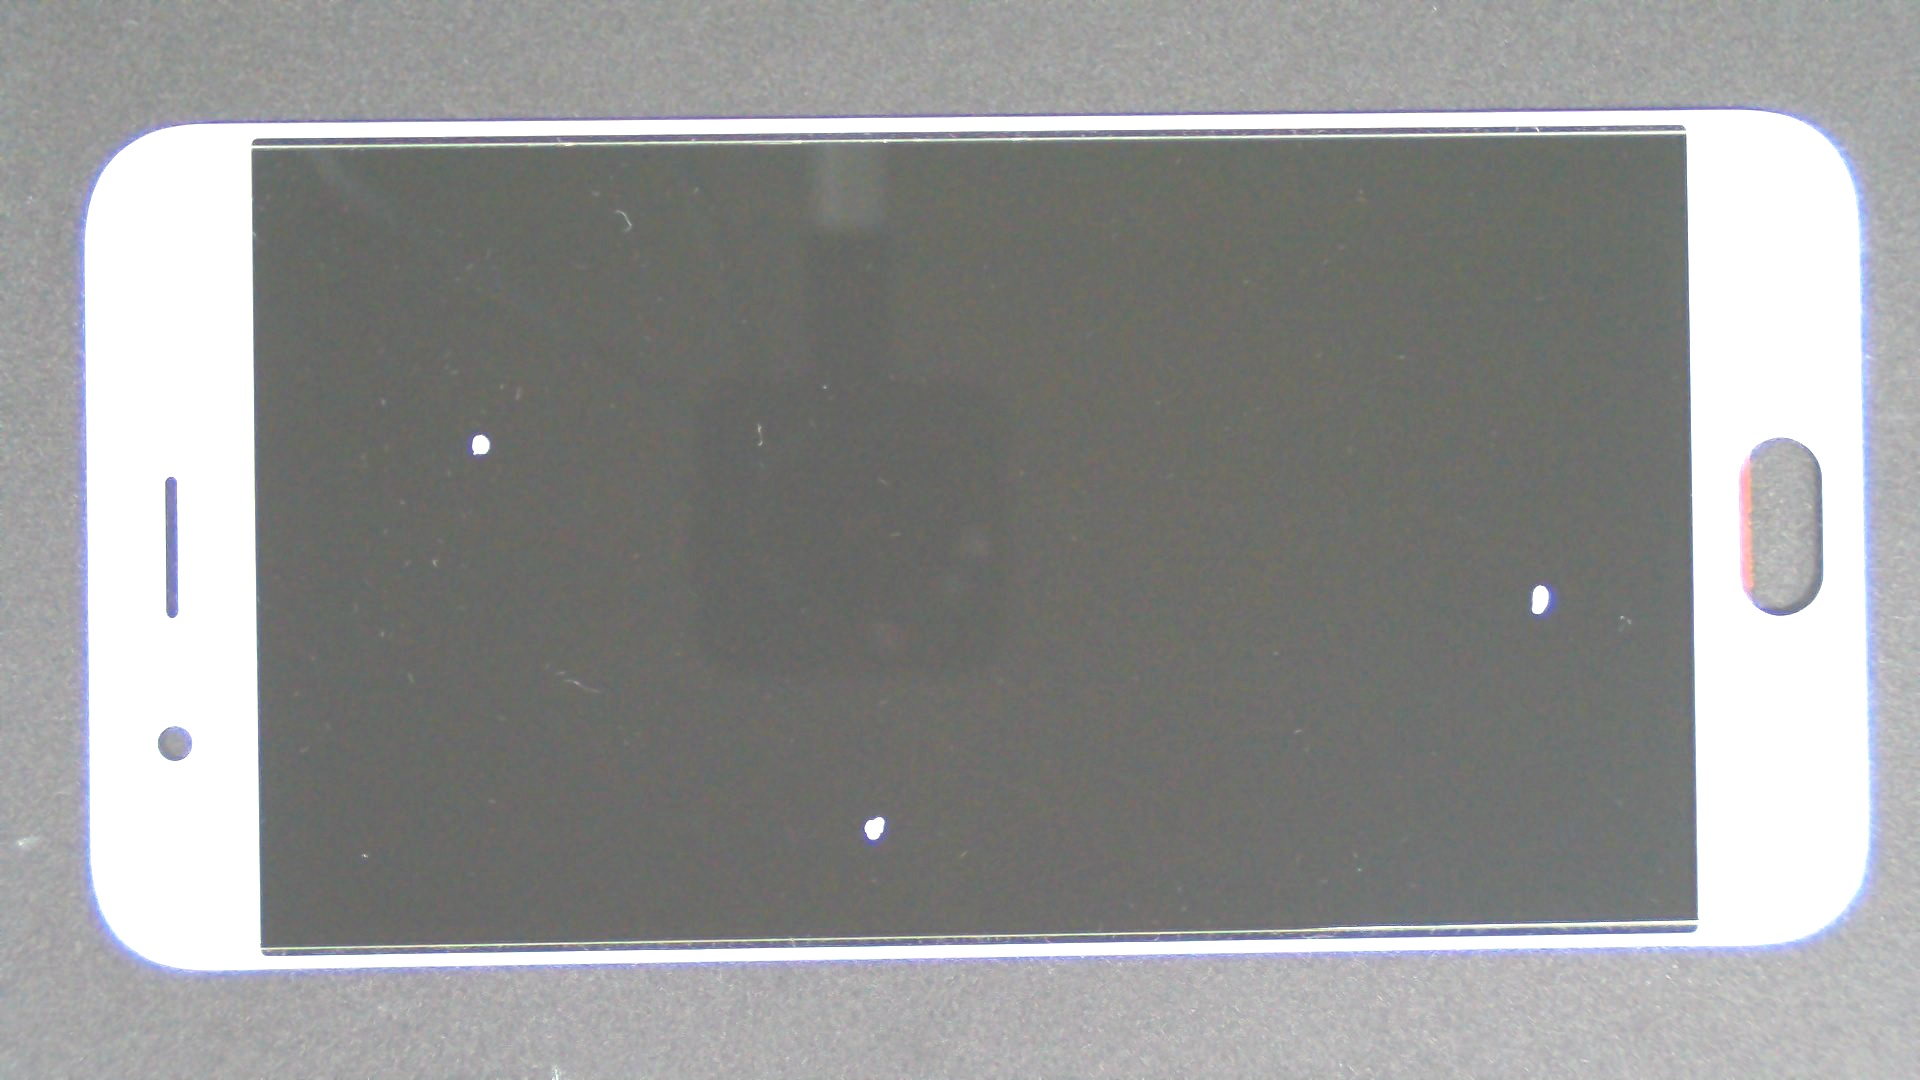oil: (770, 291, 1920, 877), (440, 406, 1316, 1080), (240, 216, 720, 650)
